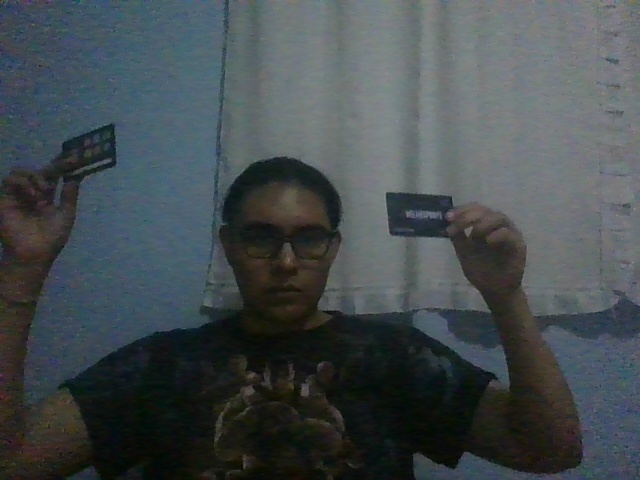tarjeta: (60, 123, 117, 182), (385, 191, 454, 238)
